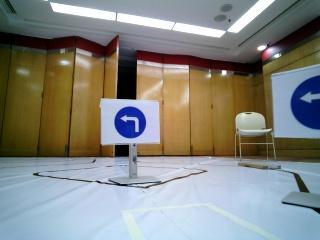left: (108, 102, 160, 142)
